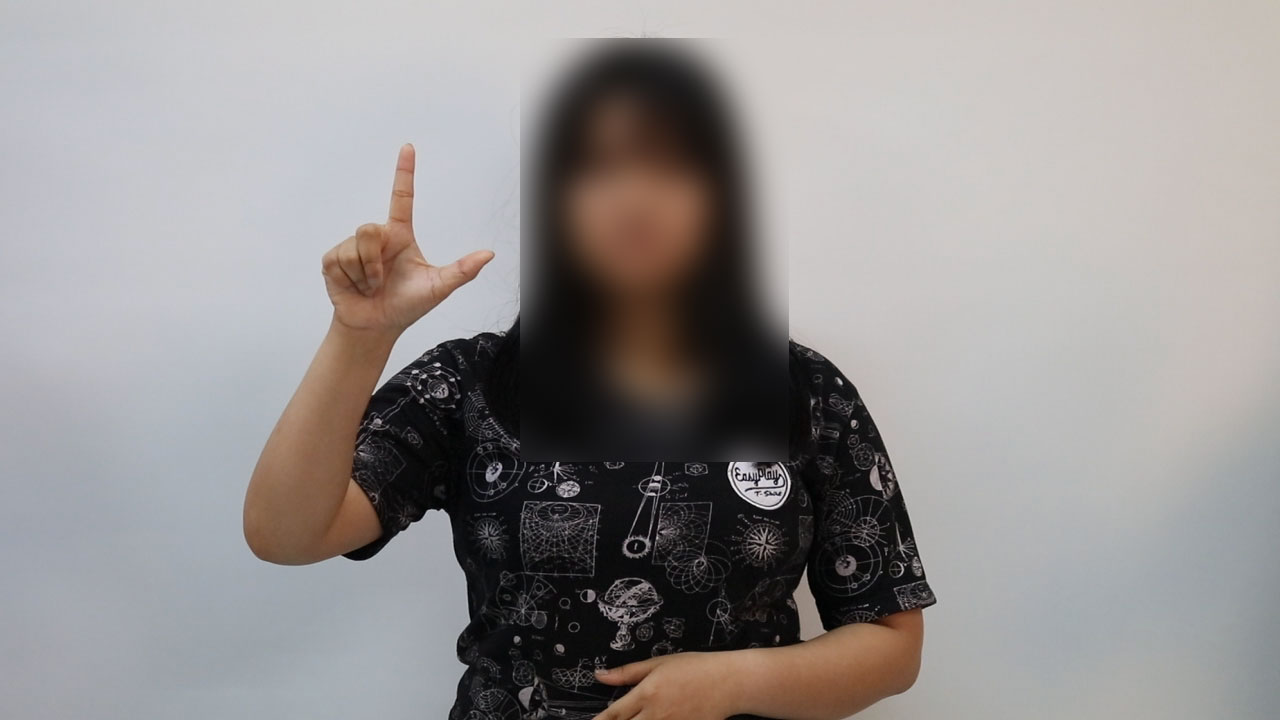lor: (308, 133, 508, 339)
